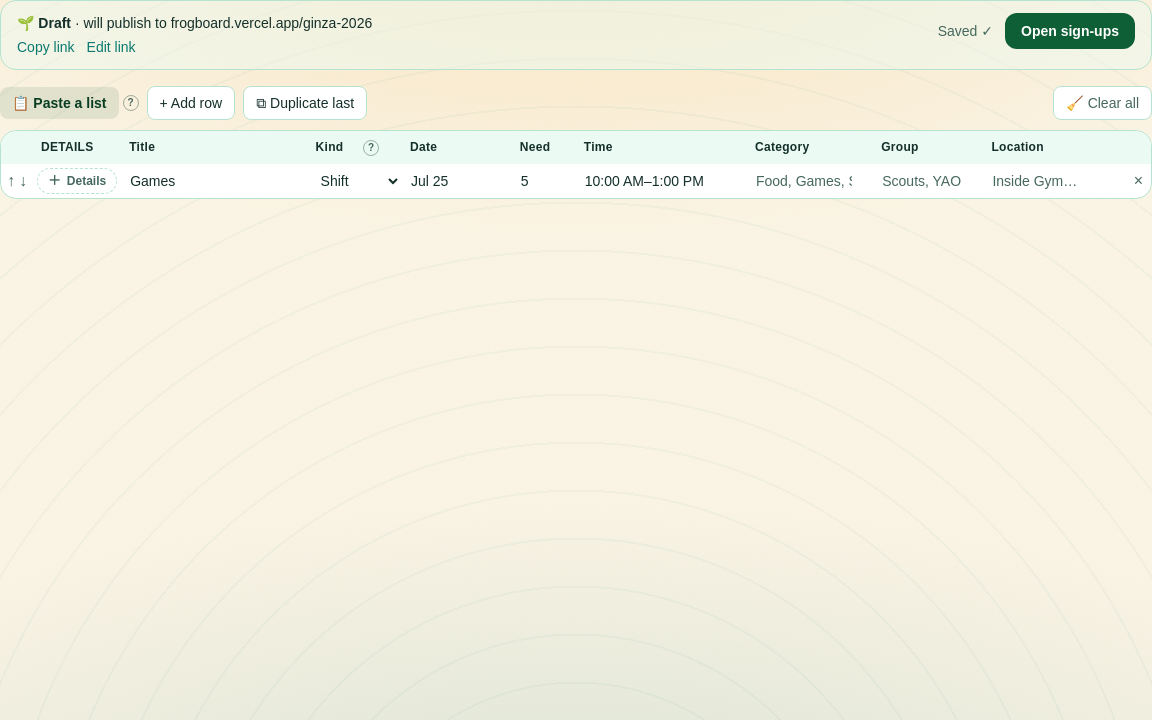
Test: delete is deferred; undo cancels it and restores the row intact (signups included)
The width and height of the screenshot is (1152, 720).
Click the button named "delete, row 1" at point(1138, 181), box [1130,165,1147,197]
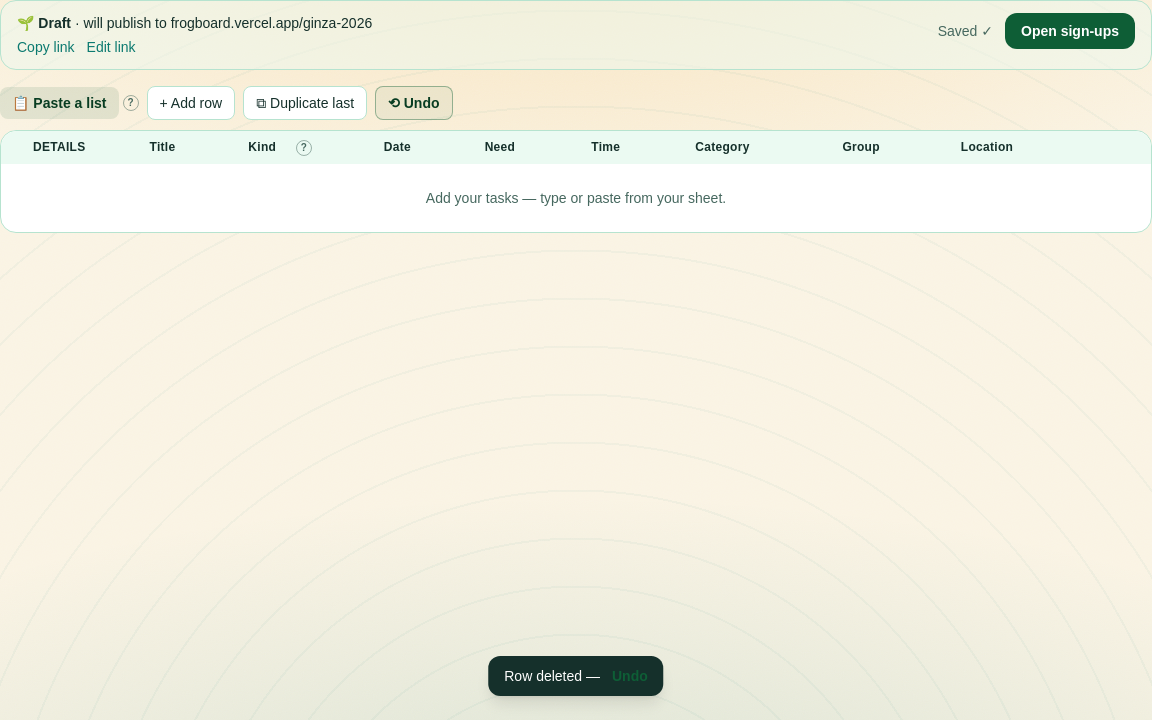
Click the button "Undo" at point(630, 676), box [612,666,648,686]
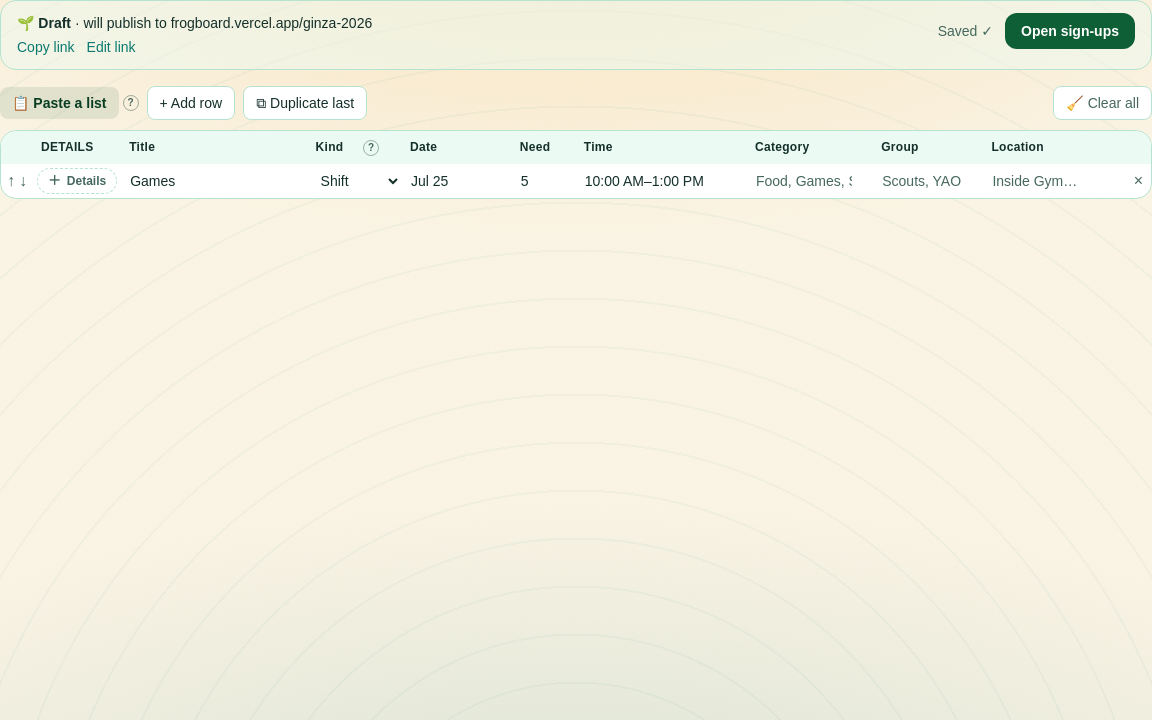
Expected: the field named "Title, row 1" holds "Games", [121,164,308,198]
